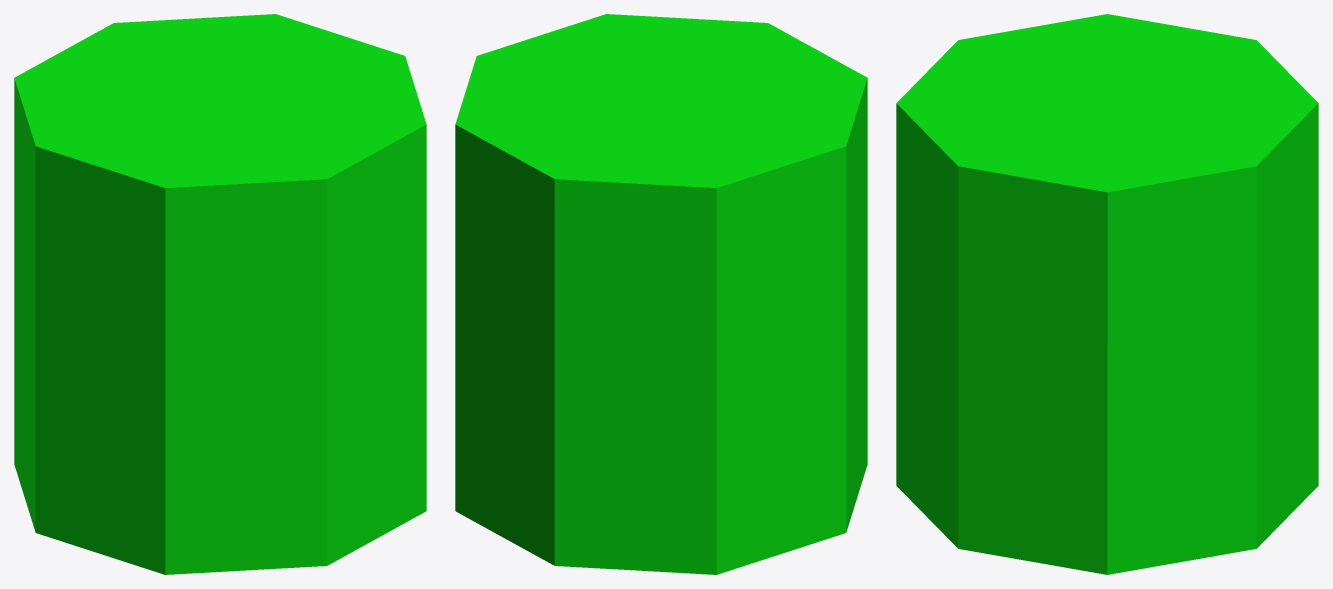
File: button.fbx
The picture shows the model from 3 angles, left to right: view 1: azimuth 30°, elevation 25°; view 2: azimuth 150°, elevation 25°; view 3: azimuth 270°, elevation 25°; orthographic projection.
Visible parts, largest first — view 1: Cylinder.001; view 2: Cylinder.001; view 3: Cylinder.001.
Part boxes in pixels (x1,y1,x2,y2): Cylinder.001: (14, 14, 426, 574); Cylinder.001: (455, 14, 867, 574); Cylinder.001: (896, 14, 1318, 574).
Size of the model in its own units: 169 by 169 by 169.
